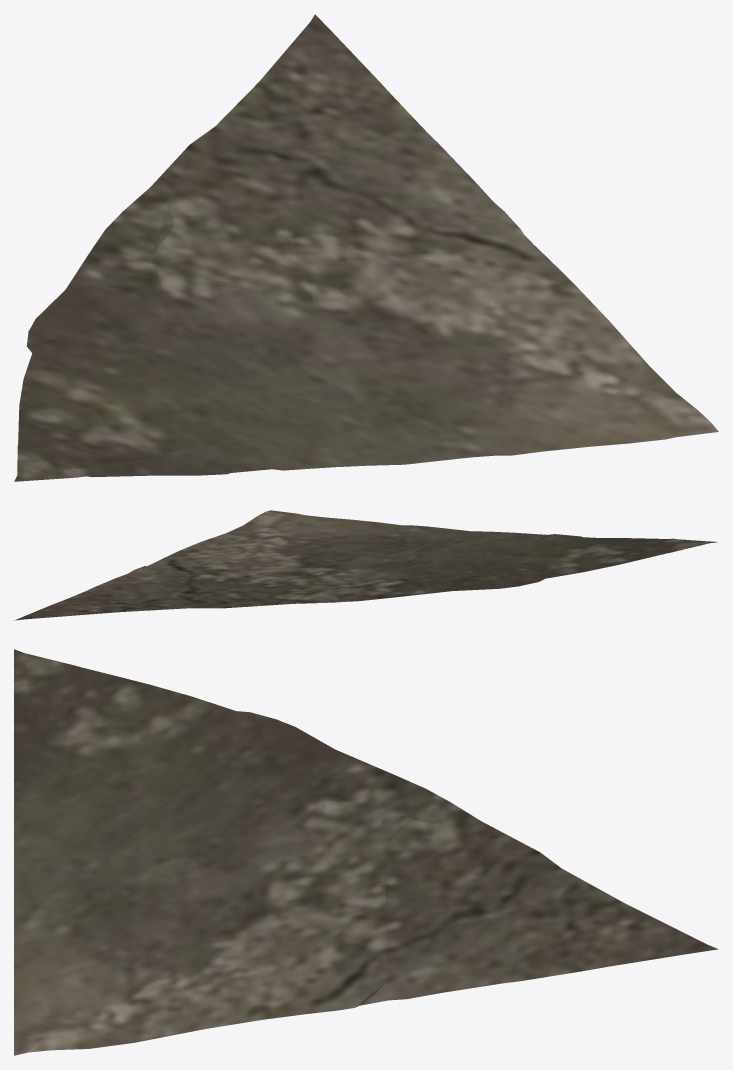
The picture shows the model from 3 angles, top to bottom: view 1: azimuth 30°, elevation 25°; view 2: azimuth 150°, elevation 25°; view 3: azimuth 270°, elevation 25°; orthographic projection. The views are drawn at different scales.
Bounding box in the file's own units: 0.6955 × 0.1151 × 0.6902.
1 material, 1 textured.
